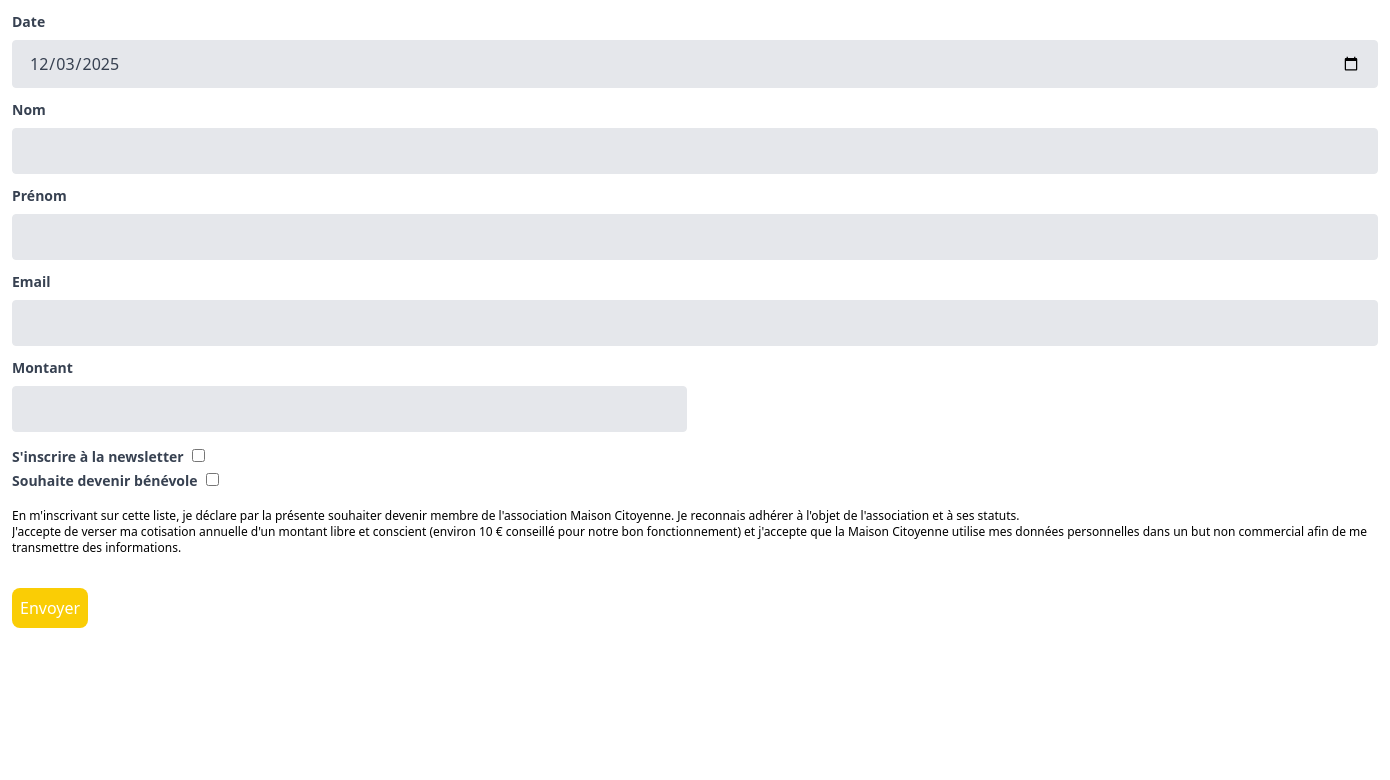
it: <Form<Member> /> › should display errors when required fields are not filled
The image size is (1390, 780).
Type "test@test.fr" into the field labelled "Email" at (695, 323), box [12,300,1378,346]
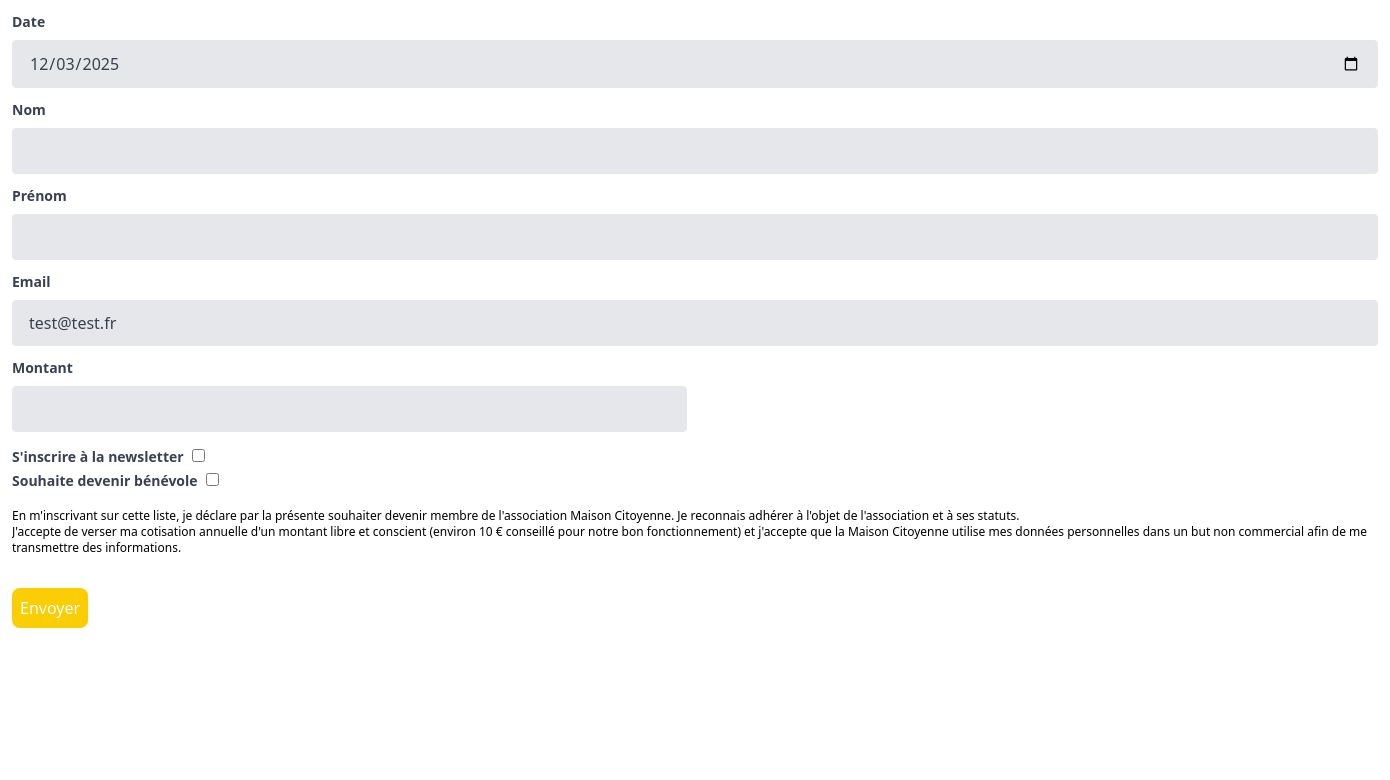
Submit the form from the button, box [12,588,88,628]
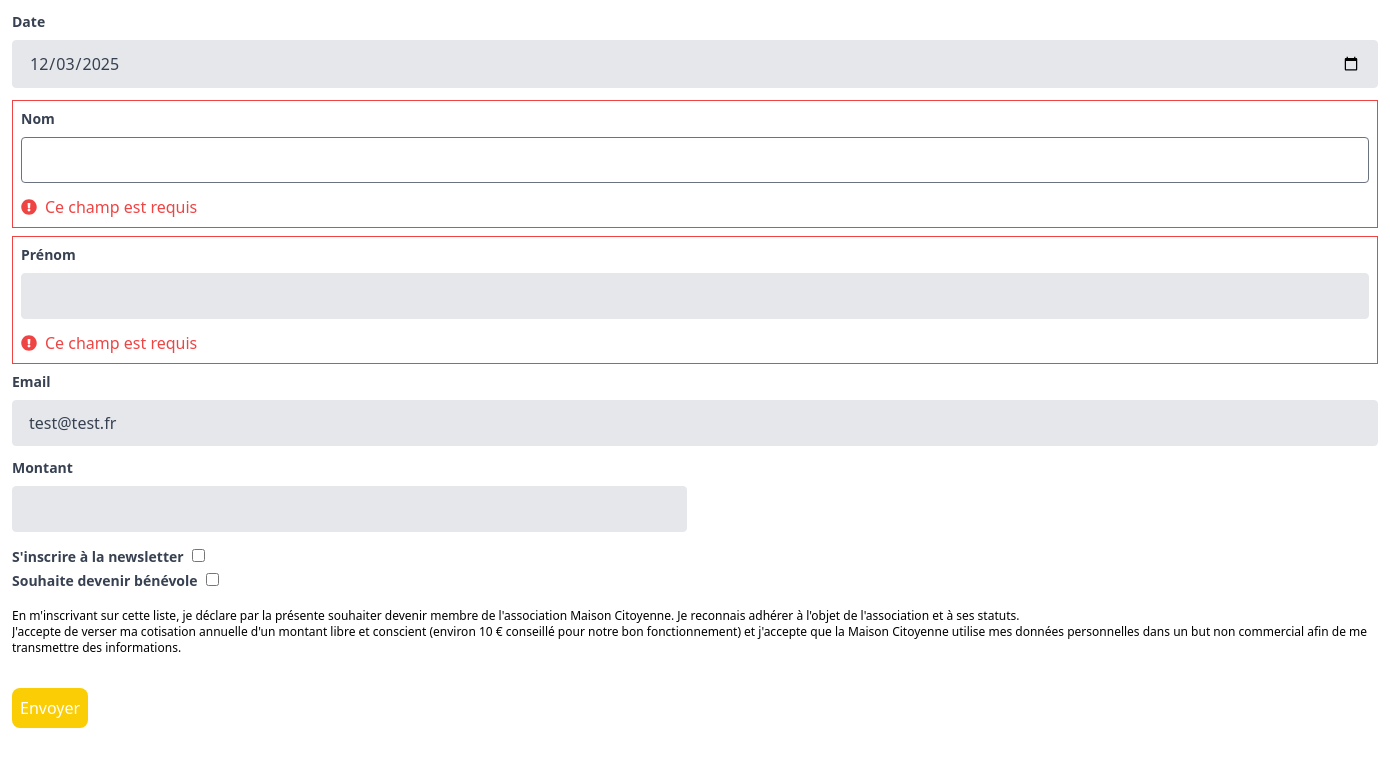
Expected: the number of messages is 2, [21,196,197,218]; [21,332,197,354]
